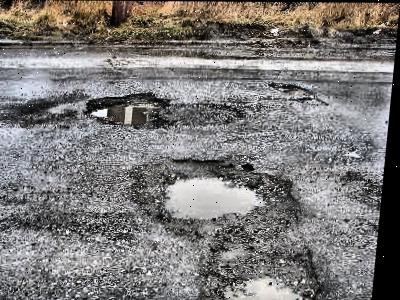pothole: (127, 153, 314, 243), (198, 245, 333, 300), (82, 90, 174, 130), (270, 81, 311, 94), (294, 95, 329, 106)
